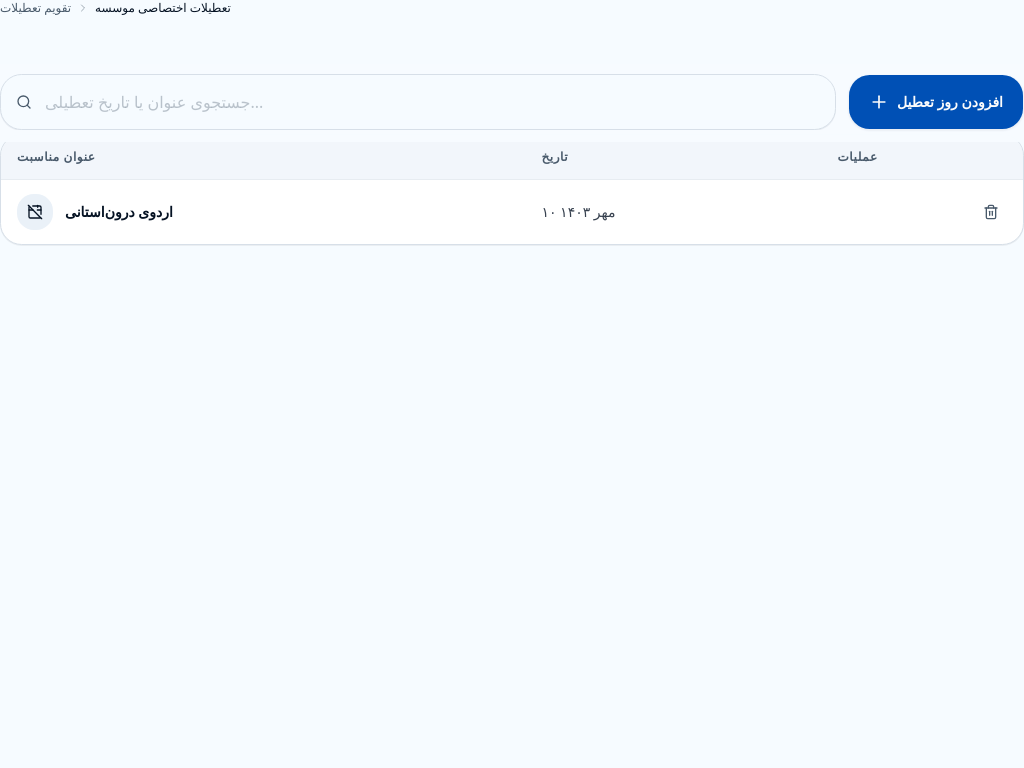
Test: CustomOffDaysContent › lists custom off-days and opens their delete confirmation
The width and height of the screenshot is (1024, 768).
Click the button named "حذف اردوی درون‌استانی": (991, 212) [975, 196, 1007, 228]
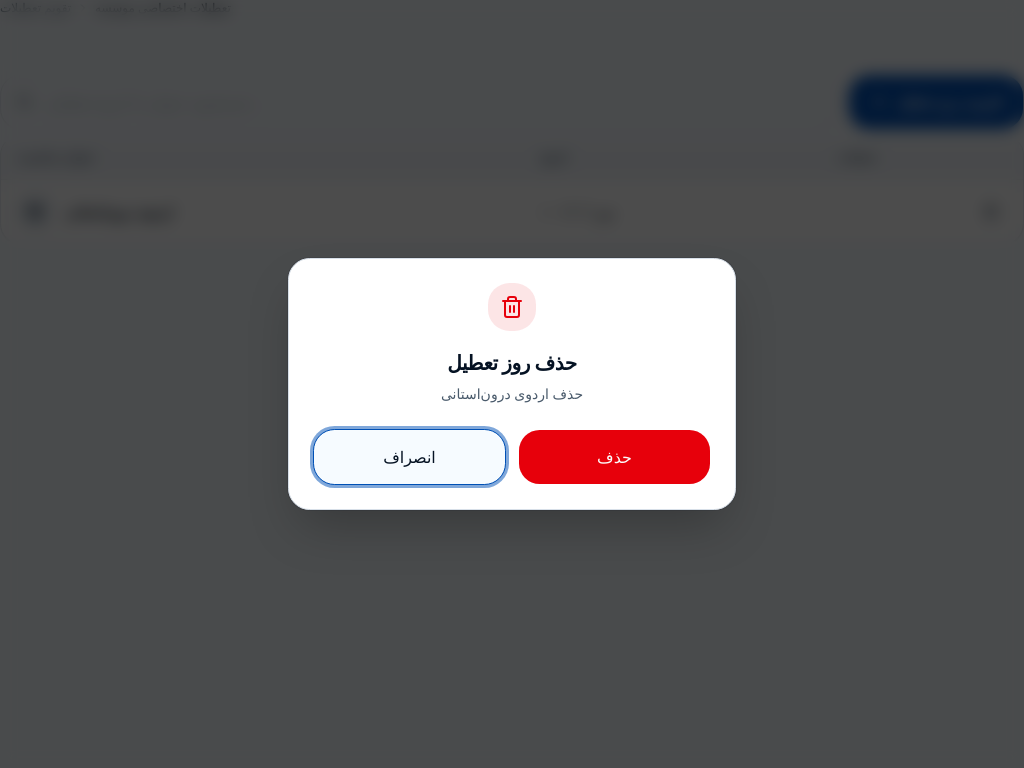
Now the heading "حذف روز تعطیل" is shown, box [447, 349, 577, 377]
